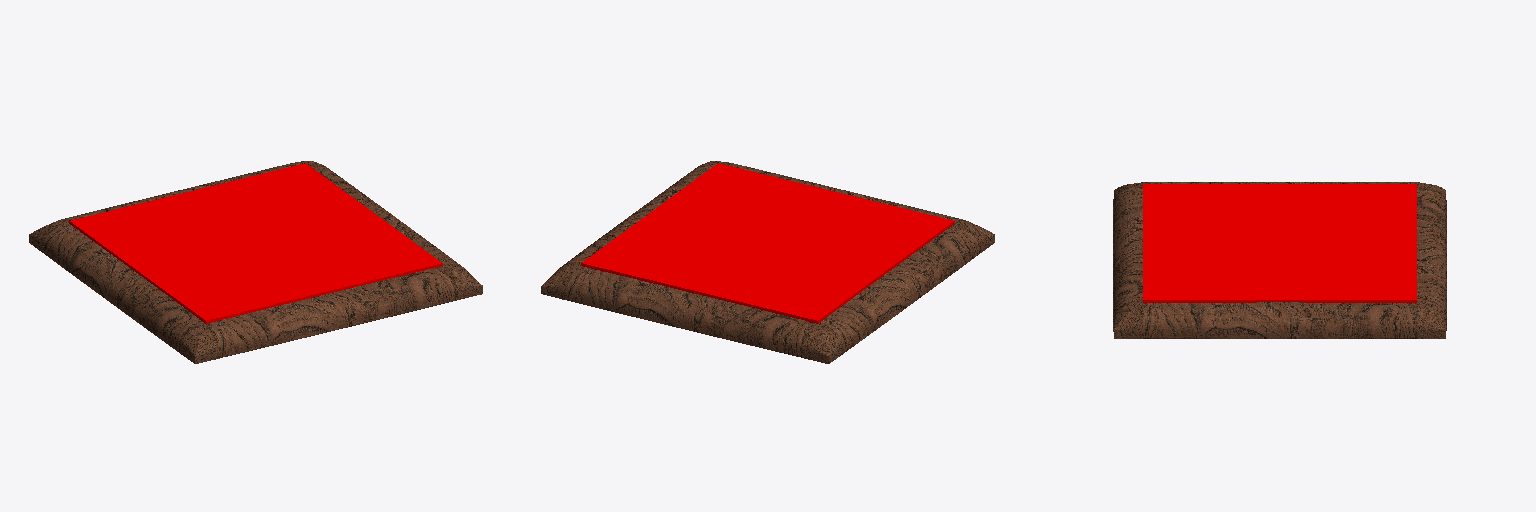
3 renders of one model, left to right at view 1: azimuth 30°, elevation 25°; view 2: azimuth 150°, elevation 25°; view 3: azimuth 270°, elevation 25°, orthographic.
Parts seen in each view (by area): view 1: s.0073, p.0109, s.0112; view 2: s.0073, p.0109, s.0112; view 3: s.0073, p.0109, s.0112.
Boxes of the visible parts, <box> form: s.0073: <box>69,163,442,323</box>; p.0109: <box>43,162,459,357</box>; s.0112: <box>29,161,482,363</box>; s.0073: <box>581,163,954,323</box>; p.0109: <box>563,162,980,357</box>; s.0112: <box>541,161,994,363</box>; s.0073: <box>1143,184,1416,302</box>; p.0109: <box>1113,182,1446,338</box>; s.0112: <box>1113,182,1446,338</box>.
Bounding box in the file's own units: 0.9519 × 0.088 × 0.9519.
Materials: 2 (1 with a texture image).